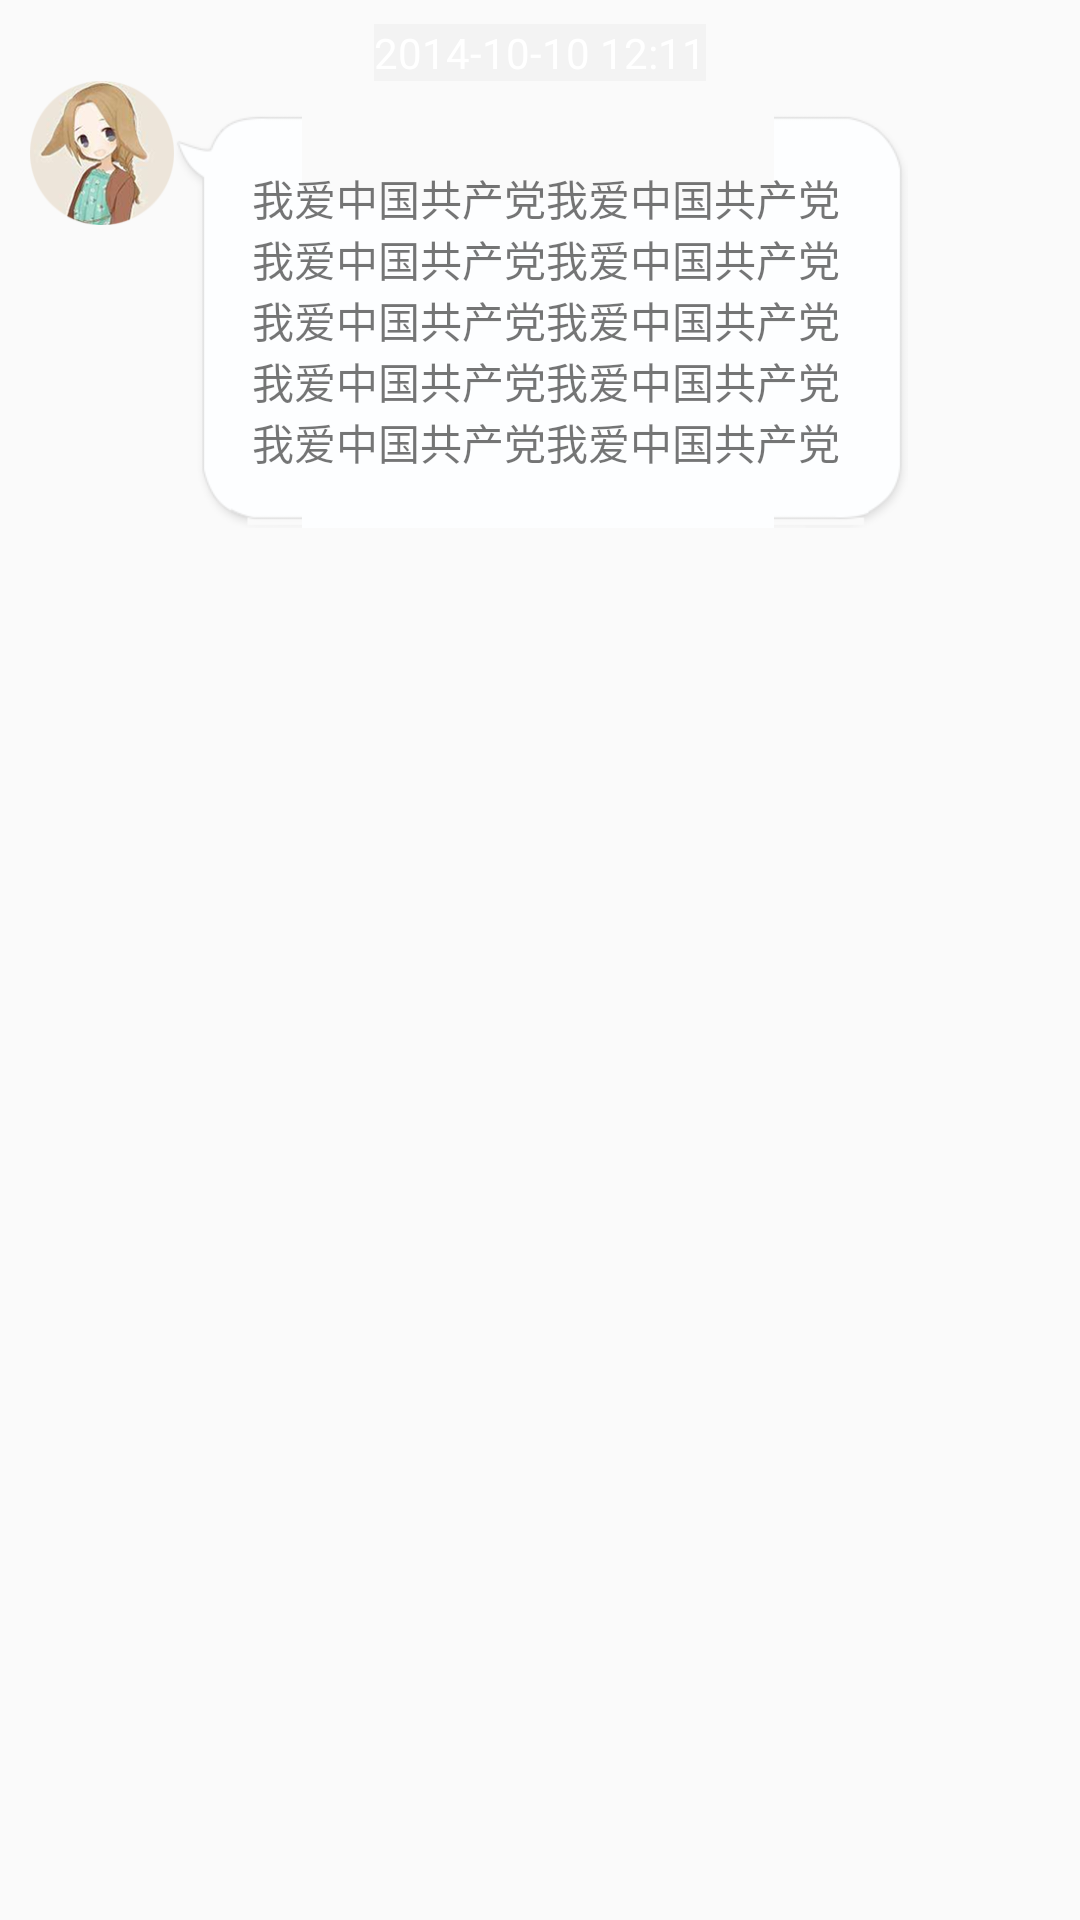

Screen size 1080 x 1920. Icon name, then its box in pixels as Rect(x1, y1, x2, y2):
touxiang: Rect(30, 81, 174, 225)
